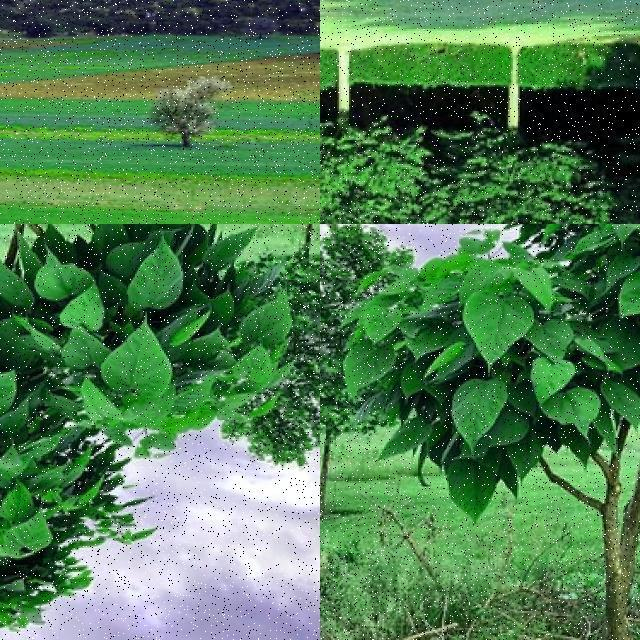tree: (352, 224, 640, 636), (0, 224, 282, 640), (410, 44, 632, 224), (320, 224, 414, 516), (220, 223, 320, 484), (320, 52, 420, 225), (321, 56, 364, 224), (145, 84, 223, 148)
